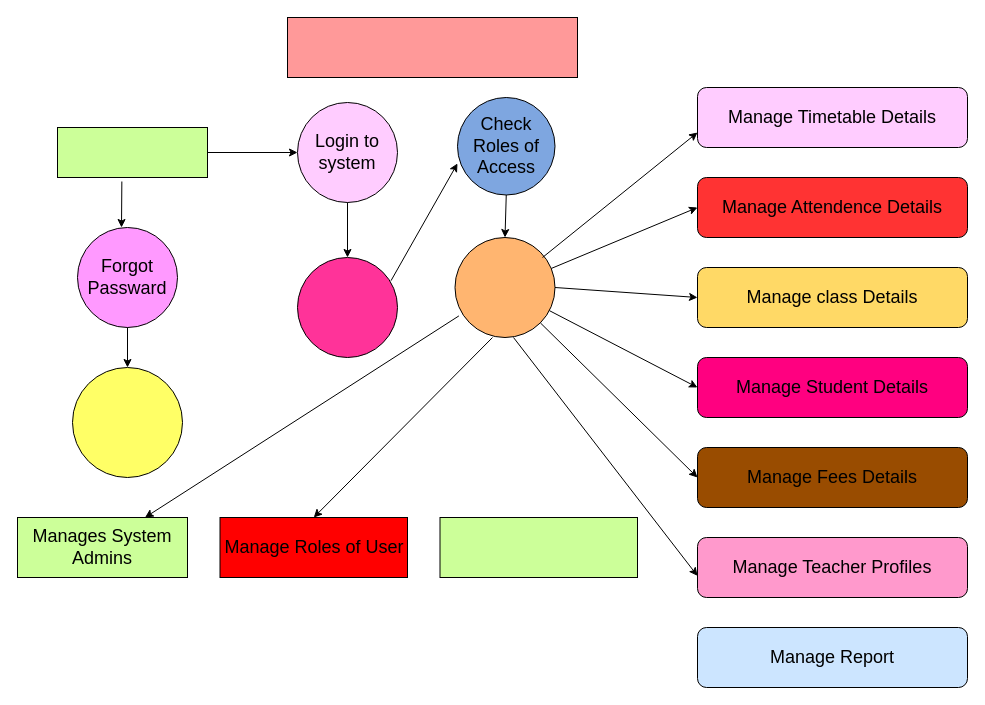
This 985x705 diagram has some shape labels left out. The box of each missing label's shape, as (x1, y1, x2, y2) in pixels:
Admin: (56, 126, 208, 178)
Cheaks Credentials: (296, 256, 398, 358)
Manage User Permission: (439, 516, 638, 578)
Manages Modules: (454, 236, 555, 338)
Send Email to User: (72, 366, 182, 478)
Student Information System: (286, 16, 578, 78)
